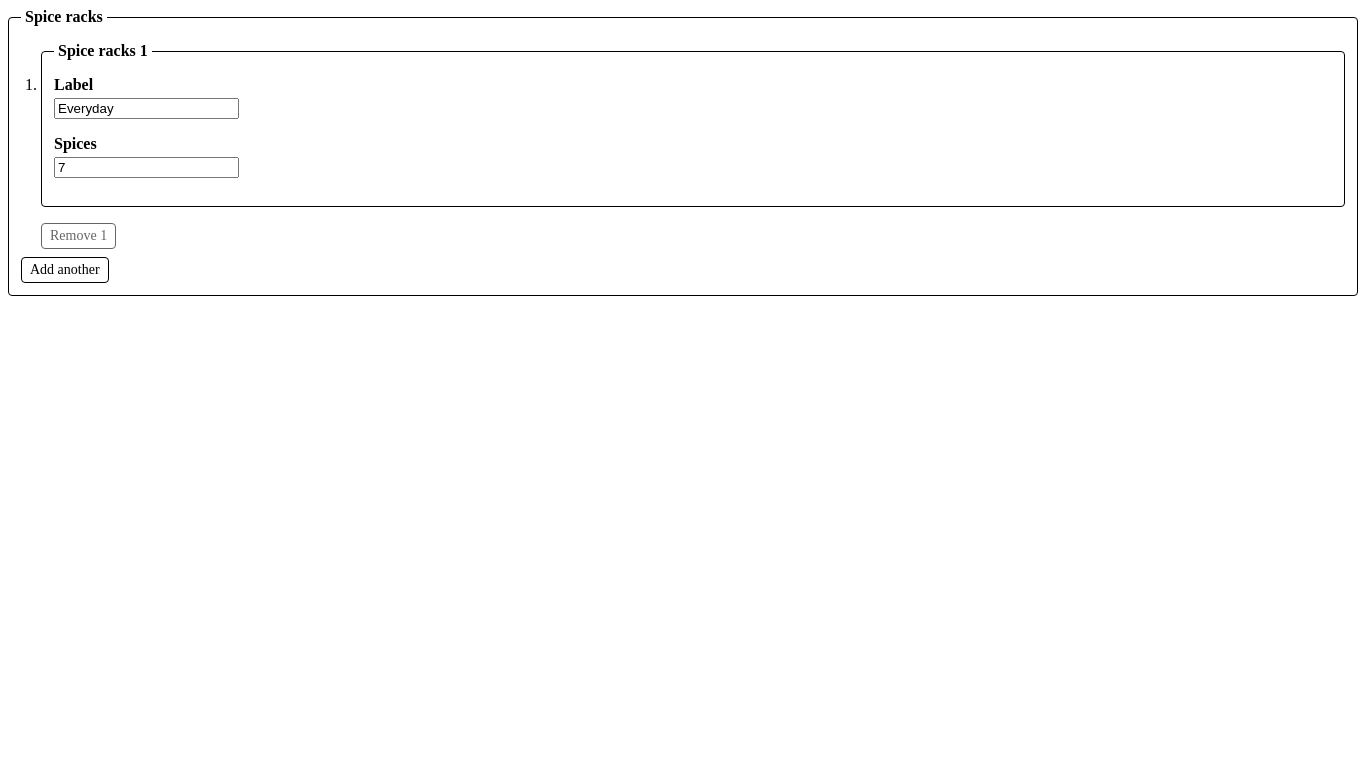
Test case: a collection › draws each item as the child's fieldset, titled with its number, and adds and removes them
Expected: the field labelled "Label" holds "Everyday", left=54, top=98, right=239, bottom=119
Expected: the button "Remove 1" is disabled, left=41, top=223, right=116, bottom=249
Click the button "Add another" at {"x": 65, "y": 270}, box left=21, top=257, right=109, bottom=283
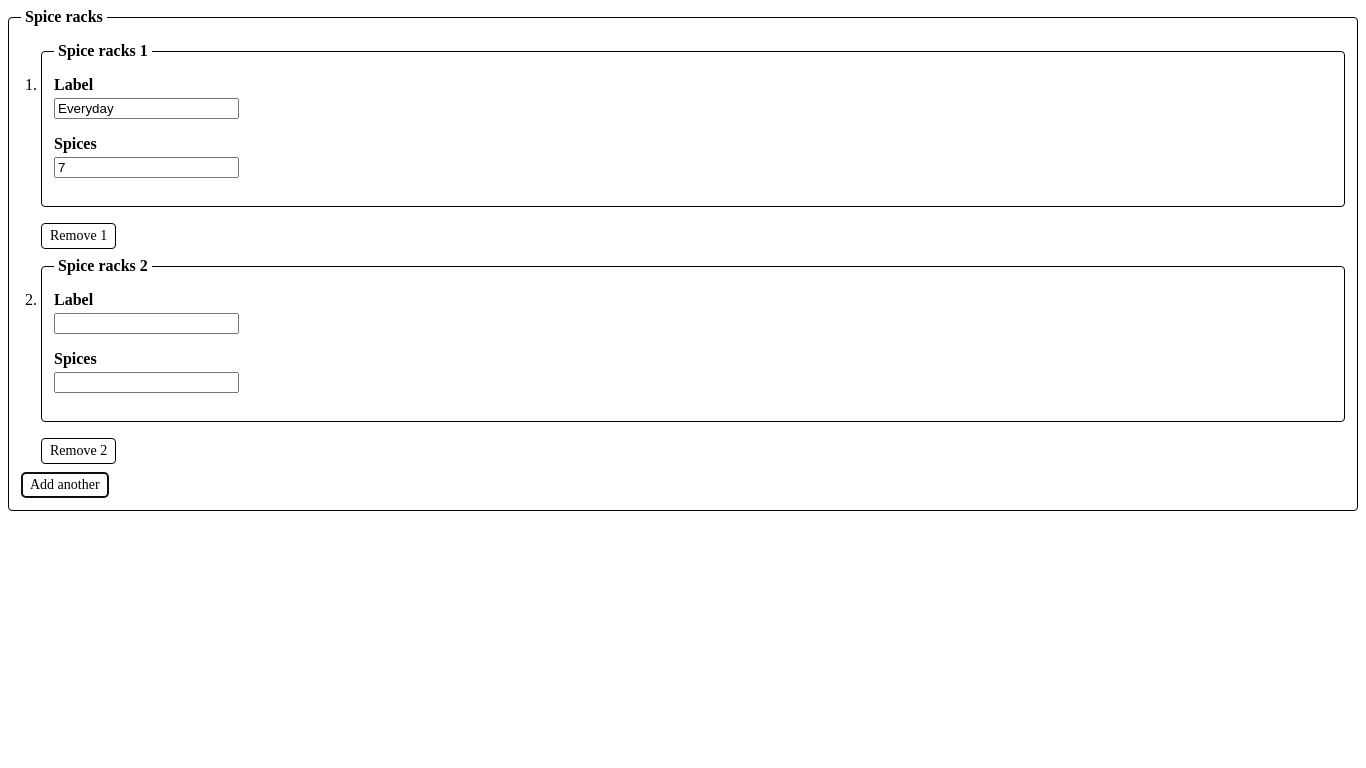
Type "Spare" into the field labelled "Label" below "Spice racks 2" at {"x": 146, "y": 324}, box left=54, top=313, right=239, bottom=334
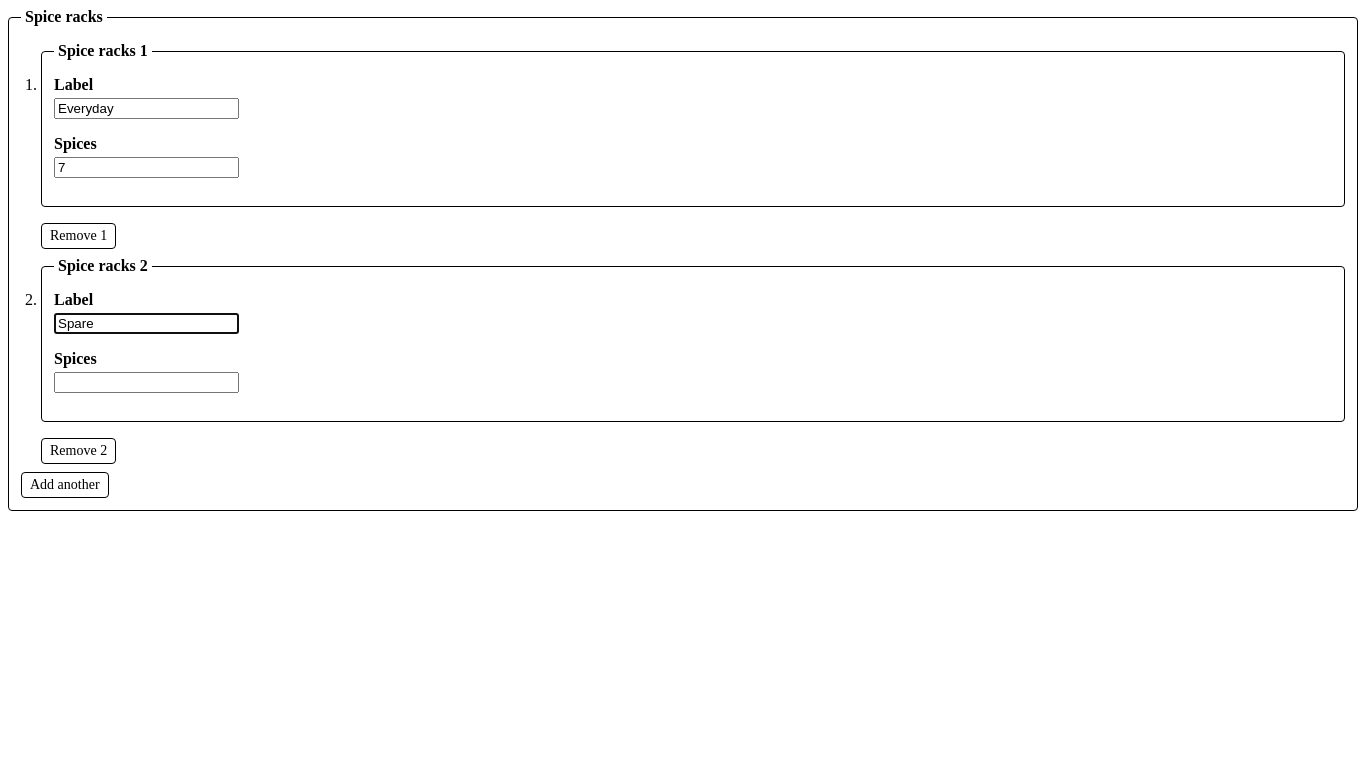
Click the button "Add another" at {"x": 65, "y": 485}, box left=21, top=472, right=109, bottom=498
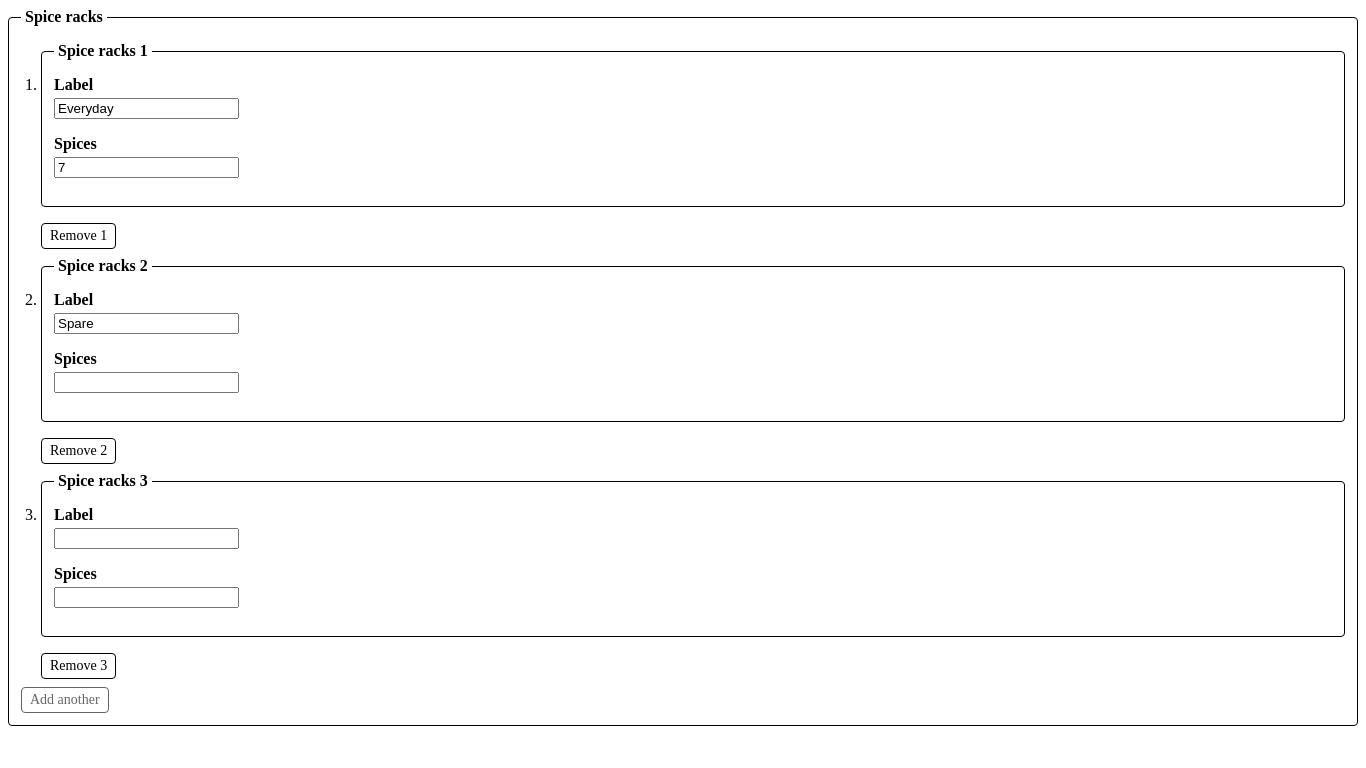
Expected: the button "Add another" is disabled, left=21, top=687, right=109, bottom=713
Click the button "Remove 1" at {"x": 79, "y": 236}, box left=41, top=223, right=116, bottom=249
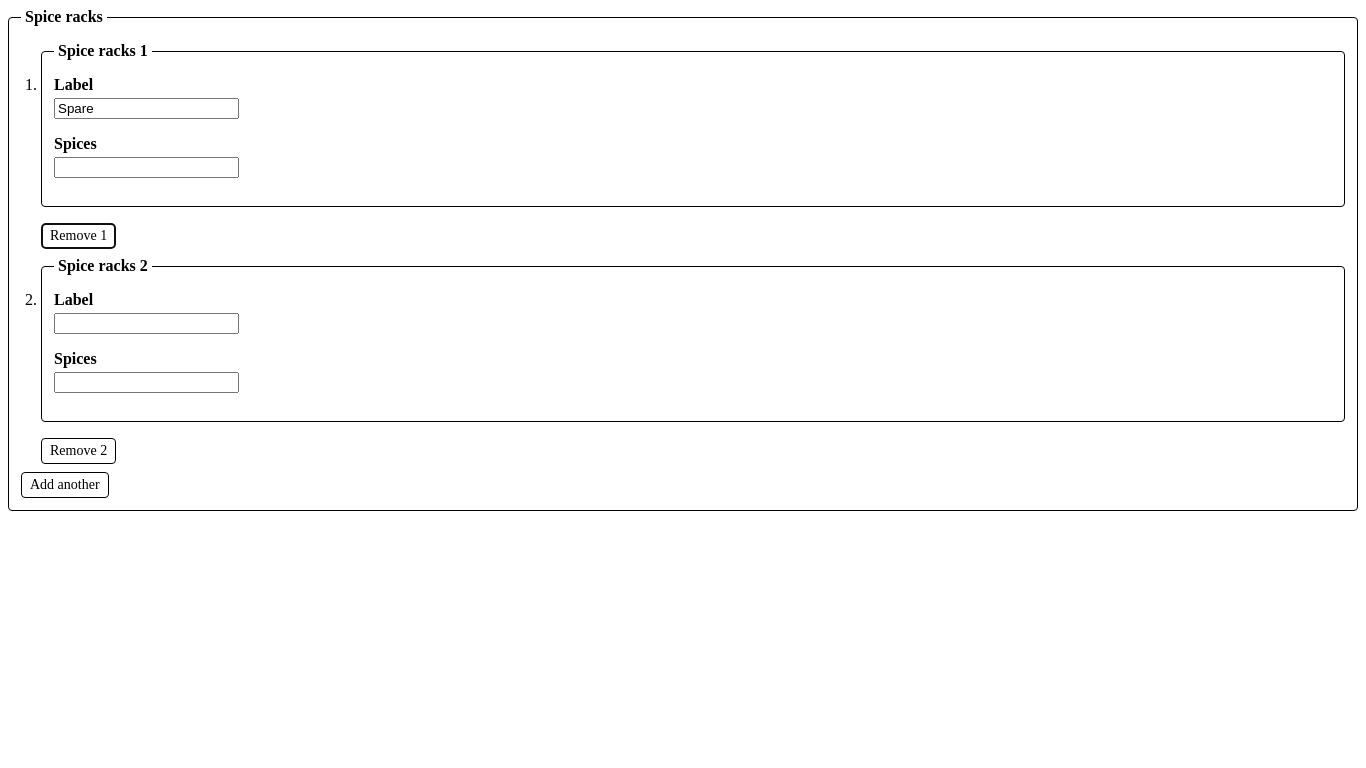
Expected: the field labelled "Label" below "Spice racks 1" holds "Spare", left=54, top=98, right=239, bottom=119
